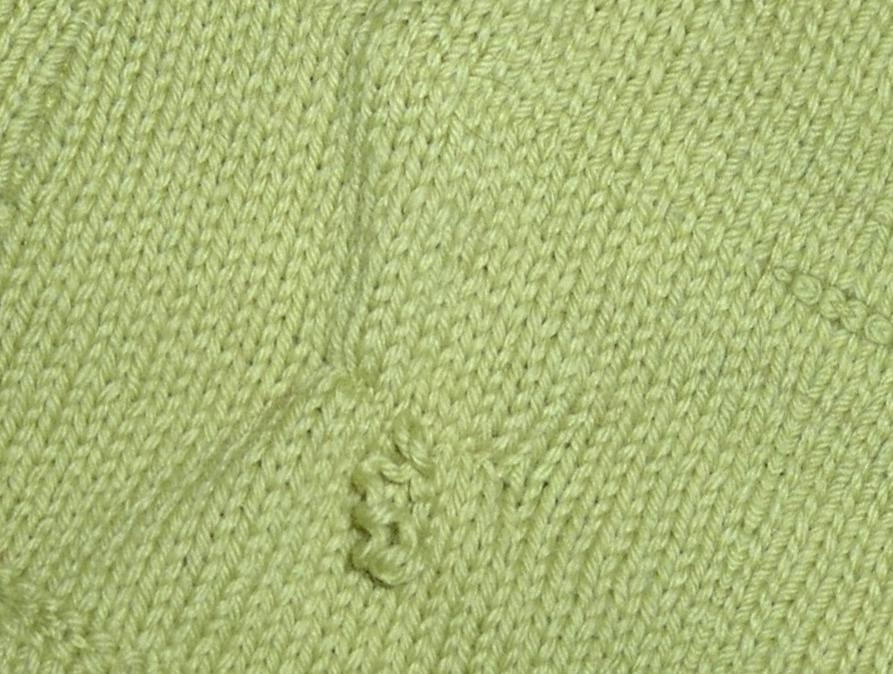knot: (338, 431, 447, 592)
